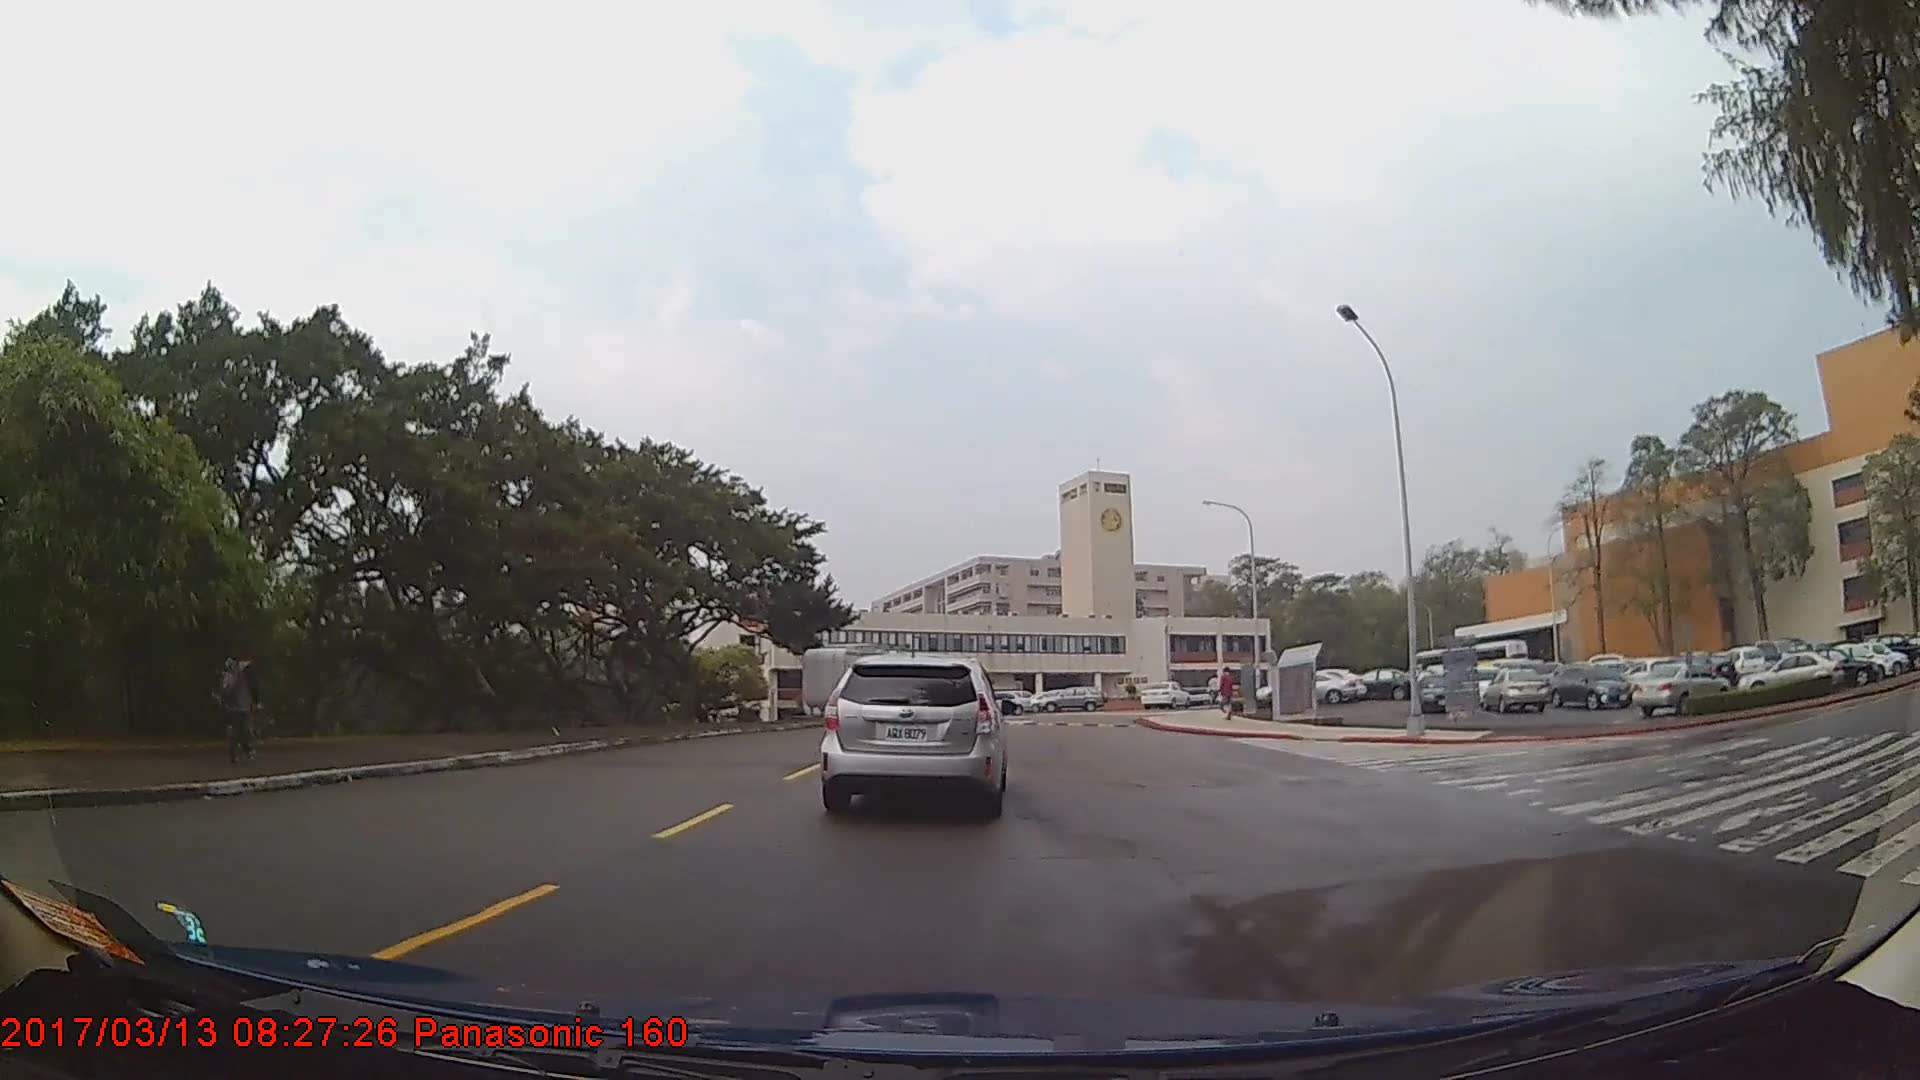pedestrian: (208, 644, 261, 766), (1218, 668, 1239, 724)
vehicle: (822, 652, 1002, 816), (1635, 660, 1731, 716), (1738, 648, 1840, 696), (1786, 643, 1881, 689), (1550, 659, 1634, 708), (1255, 670, 1359, 706), (1480, 664, 1549, 714), (1349, 665, 1415, 701), (1411, 671, 1462, 713), (1413, 673, 1463, 716), (1039, 685, 1108, 711), (1138, 680, 1189, 710)
